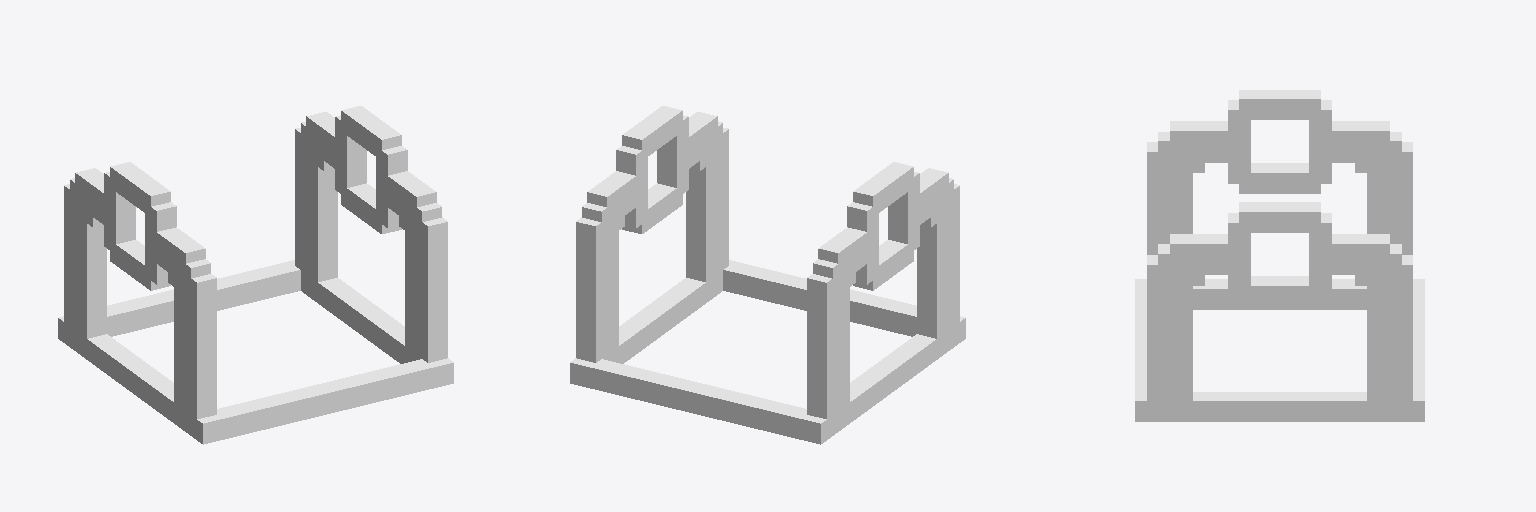
File: turbineBase.obj
The picture shows the model from 3 angles: view 1: azimuth 30°, elevation 25°; view 2: azimuth 150°, elevation 25°; view 3: azimuth 270°, elevation 25°; orthographic projection.
Size of the model in its own units: 1 by 0.8 by 1.